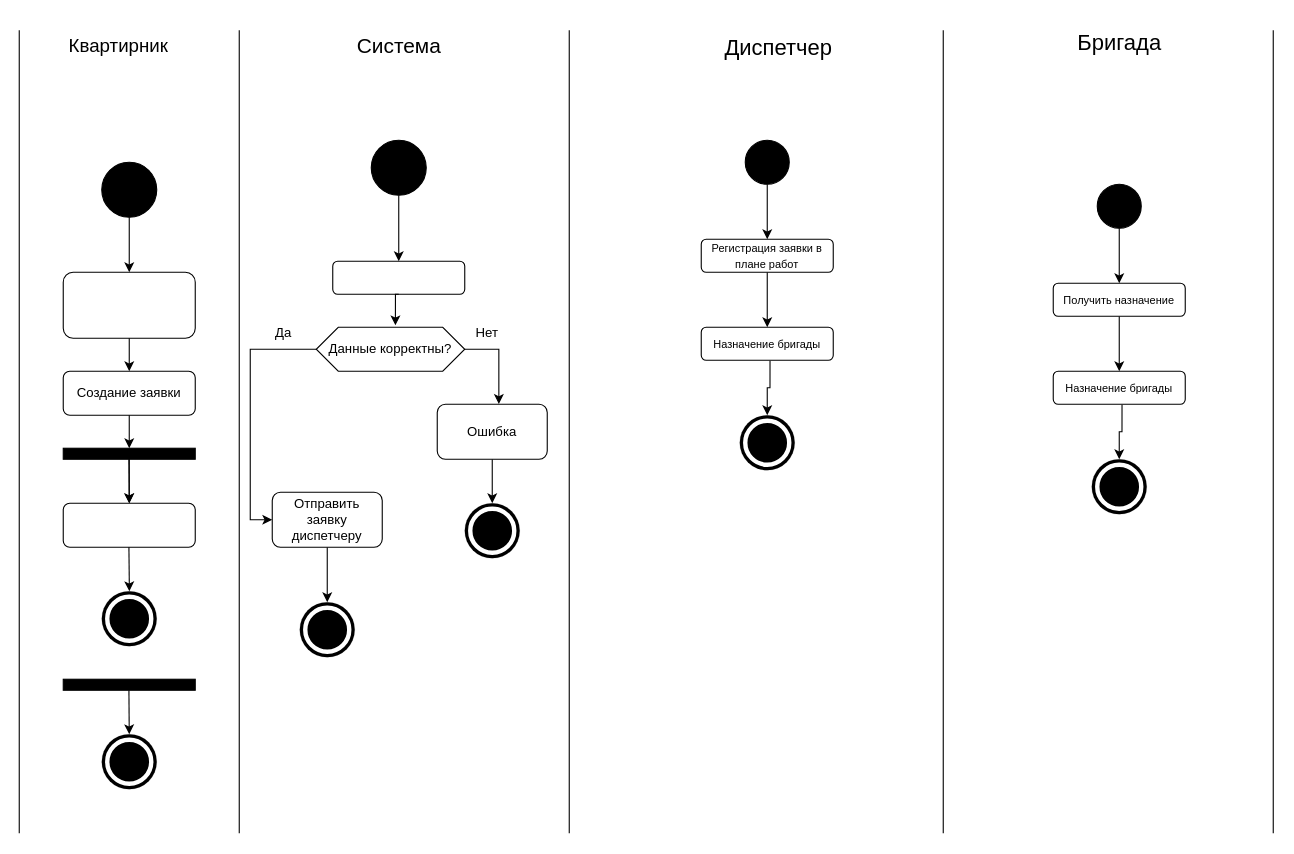
The diagram is 1294 pixels wide and 854 high, and some of its shapes have lost their labels. The shapes that lost their labels are listed below. From the top down, each one's centre as x and y in pixels, then its label:
point (398, 277): Проверка данных
point (128, 304): Вход в систему
point (128, 524): Выход из системы
